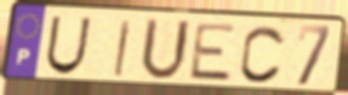7: (295, 22, 332, 90)
C: (237, 23, 288, 86)
E: (186, 21, 239, 83)
I: (112, 18, 134, 79)
U: (137, 15, 193, 83), (43, 14, 94, 77)
